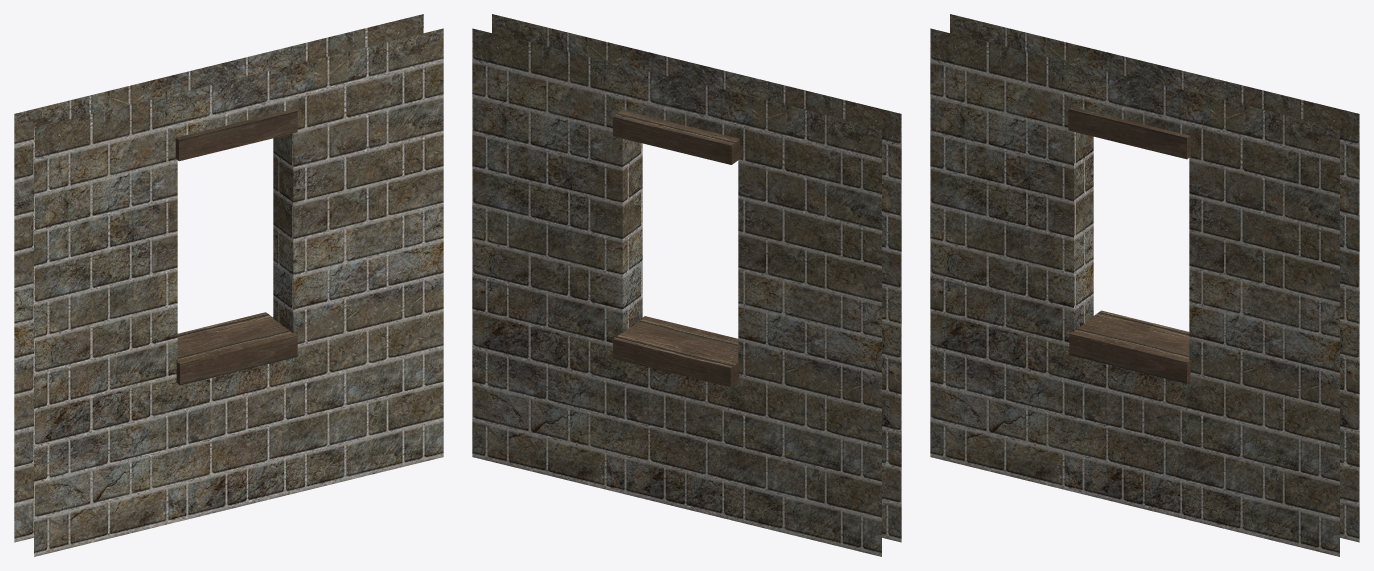
The model's file is ARC1010195.fbx.
The picture shows the model from 3 angles, left to right: view 1: azimuth 30°, elevation 25°; view 2: azimuth 150°, elevation 25°; view 3: azimuth 330°, elevation 25°; orthographic projection.
Parts seen in each view (by area): view 1: smARC1010195; view 2: smARC1010195; view 3: smARC1010195.
Boxes of the visible parts, box(x1,y1,x2,y2) form: smARC1010195: box(14, 14, 443, 556); smARC1010195: box(472, 14, 901, 556); smARC1010195: box(930, 14, 1359, 556).
Size of the model in its own units: 268 by 268 by 36.12.
1 material, 1 textured.
